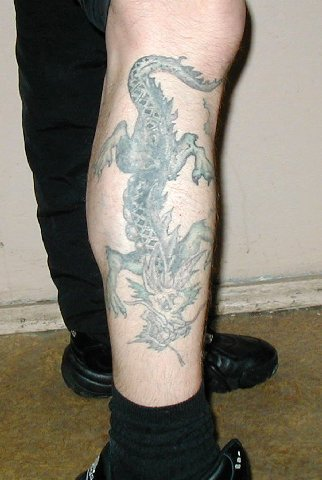tatu6_drakon: (93, 51, 231, 374)
